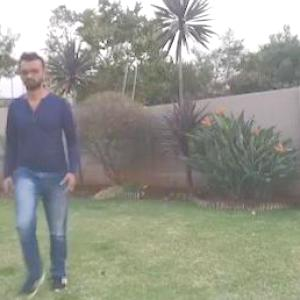follow: (8, 56, 72, 279)
